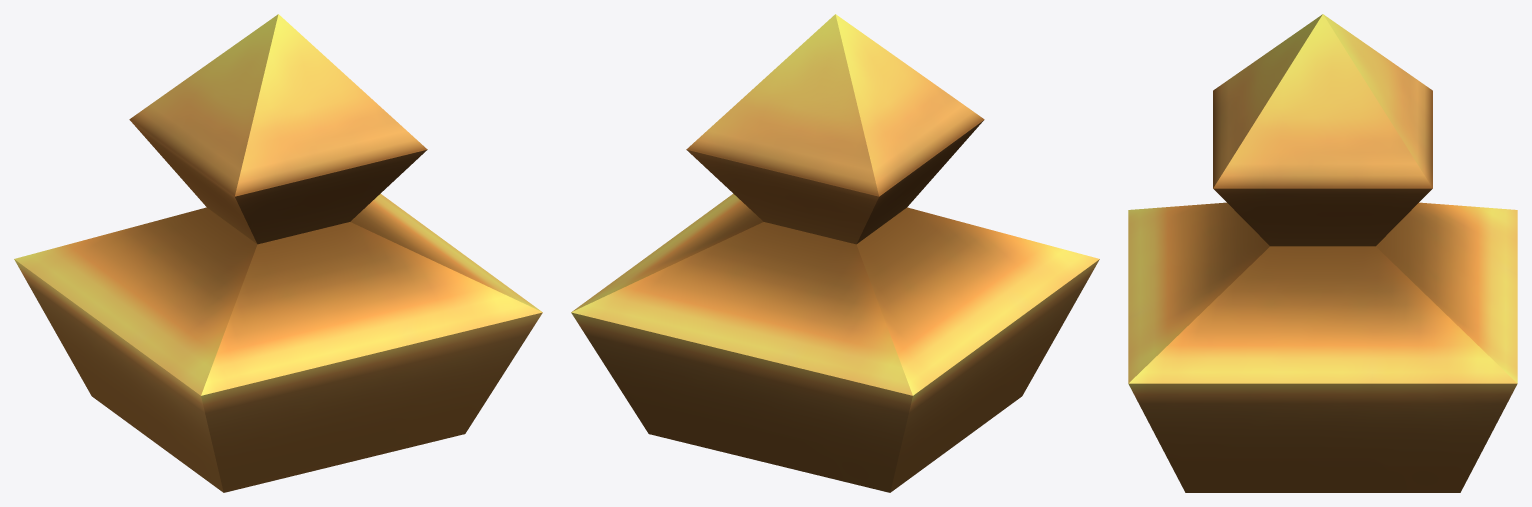
File: MJ_Jsls_09.FBX
3 renders of one model, left to right at view 1: azimuth 30°, elevation 25°; view 2: azimuth 150°, elevation 25°; view 3: azimuth 270°, elevation 25°, orthographic. The views are drawn at different scales.
Visible parts, largest first — view 1: Box12; view 2: Box12; view 3: Box12.
Part boxes in pixels (x1,y1,x2,y2): Box12: (14,14,542,492); Box12: (571,14,1099,492); Box12: (1128,14,1517,492).
Size of the model in its own units: 1.97 by 2.21 by 1.86.
